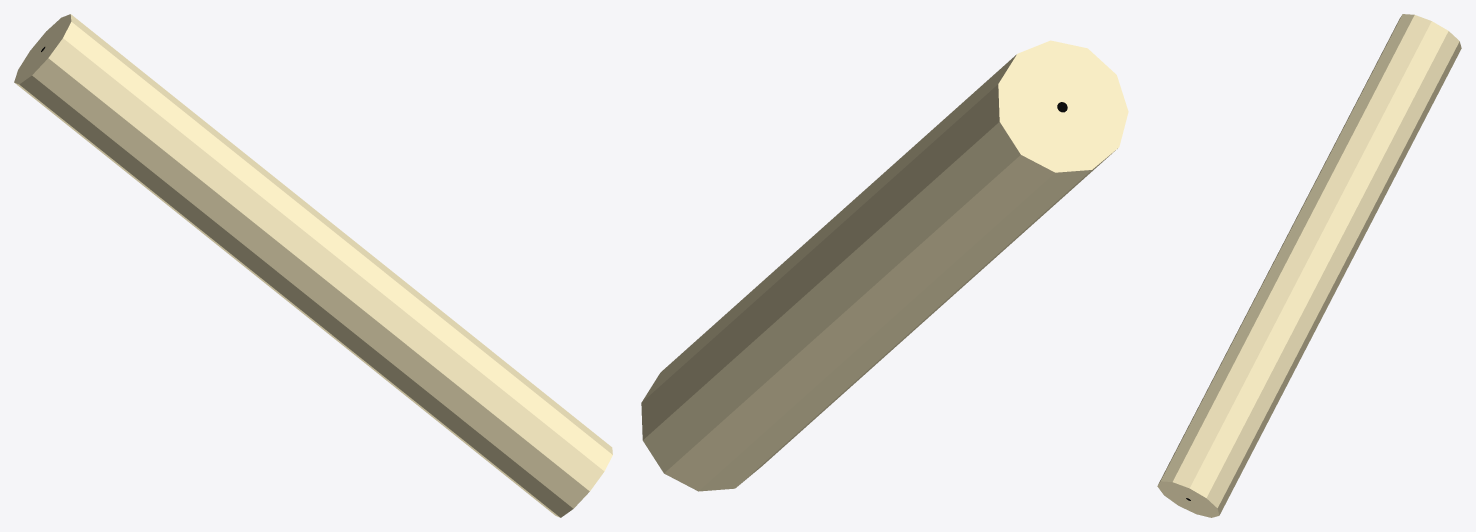
File: tile_279.glb
3 renders of one model, left to right at view 1: azimuth 30°, elevation 25°; view 2: azimuth 150°, elevation 25°; view 3: azimuth 270°, elevation 25°, orthographic. The views are drawn at different scales.
Bounding box in the file's own units: 1.43 × 1.46 × 1.09.
